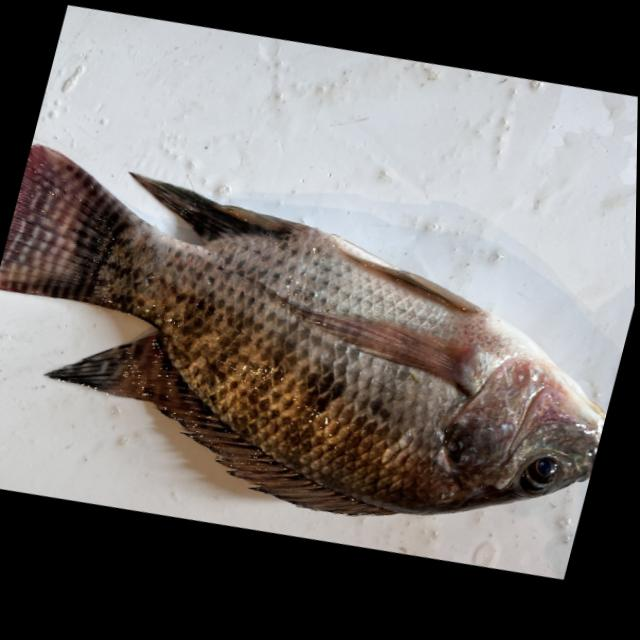Tilapia: (0, 86, 638, 603)
